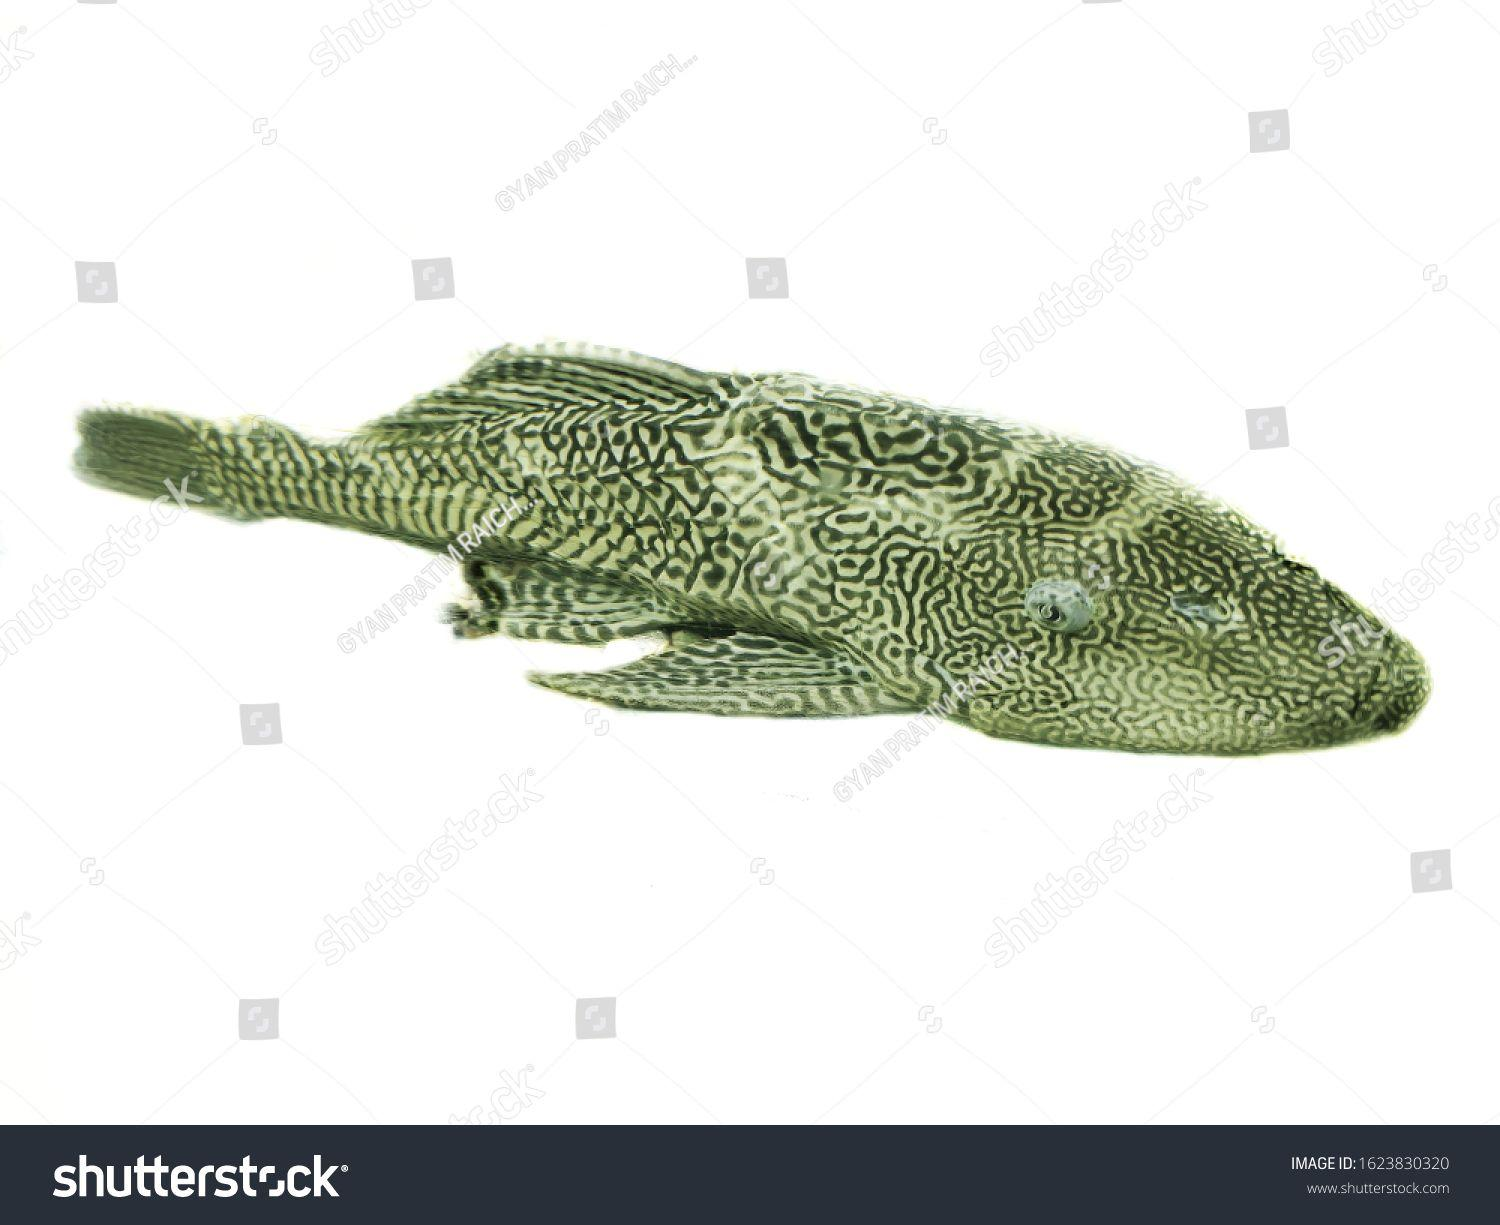Janitor Fish: (67, 336, 1436, 796)
